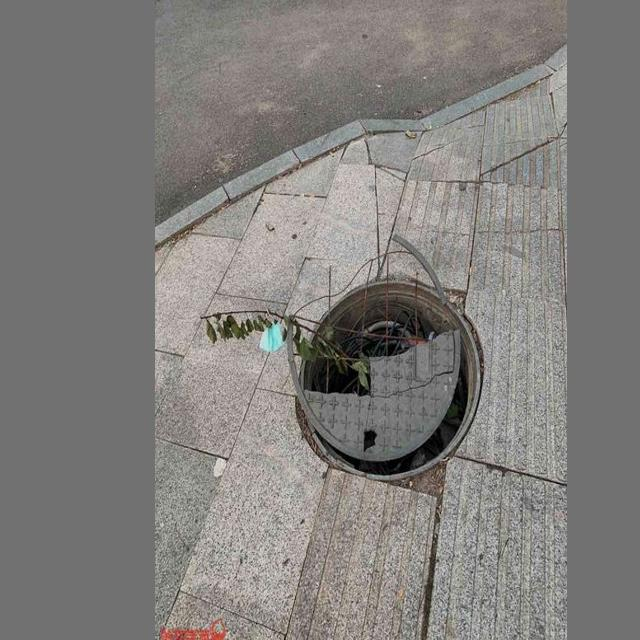broke: (276, 252, 495, 495)
